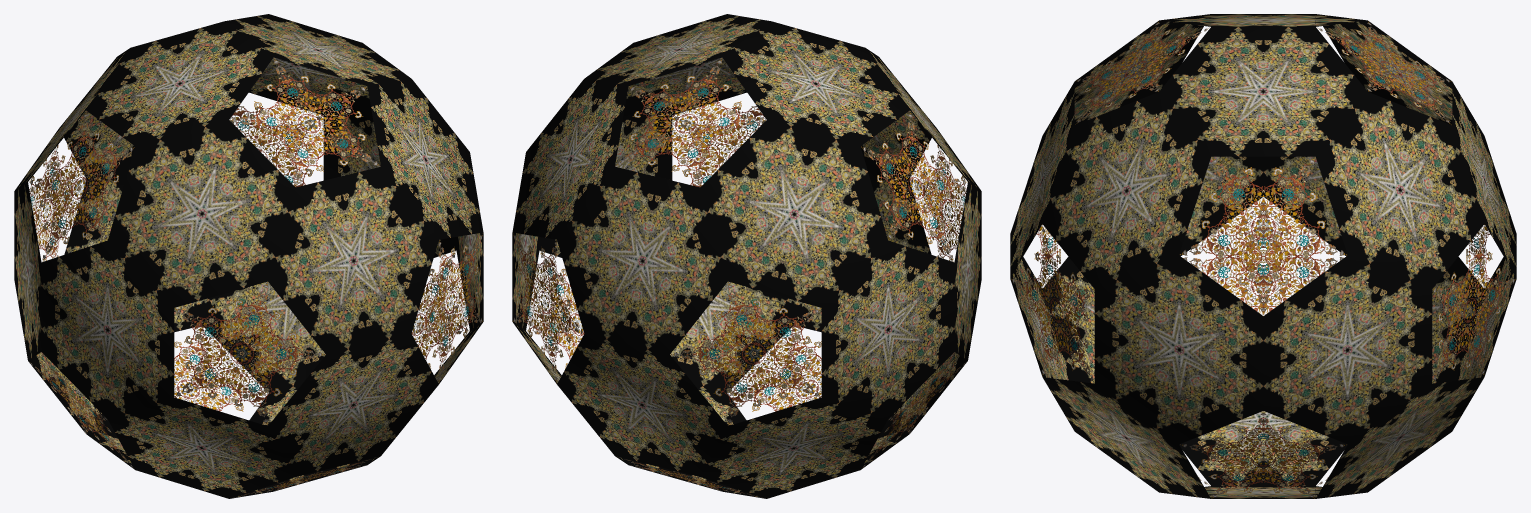
File: TruncatedIcosahedron5.gltf
The picture shows the model from 3 angles, left to right: view 1: azimuth 30°, elevation 25°; view 2: azimuth 150°, elevation 25°; view 3: azimuth 270°, elevation 25°; orthographic projection. The views are drawn at different scales.
Parts seen in each view (by area): view 1: TruncatedIcosahedron; view 2: TruncatedIcosahedron; view 3: TruncatedIcosahedron.
Part boxes in pixels (<box>): TruncatedIcosahedron: <box>14,14,483,498</box>; TruncatedIcosahedron: <box>512,14,981,498</box>; TruncatedIcosahedron: <box>1010,14,1516,498</box>.
Size of the model in its own units: 4.85 by 4.85 by 4.85.
2 materials, 2 textured.
